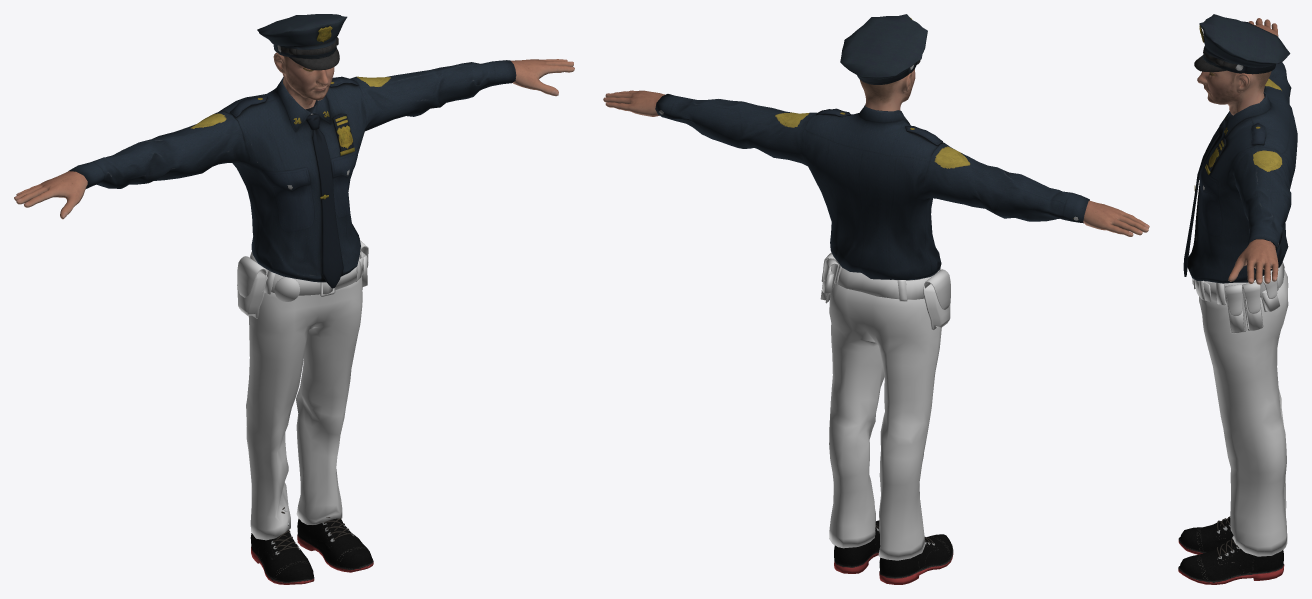
File: NPC10.obj
The picture shows the model from 3 angles, left to right: view 1: azimuth 30°, elevation 25°; view 2: azimuth 150°, elevation 25°; view 3: azimuth 270°, elevation 25°; orthographic projection. The views are drawn at different scales.
Visible parts, largest first — view 1: Tops, Bottoms, Shoes, Body, Hats; view 2: Tops, Bottoms, Hats, Body, Shoes; view 3: Bottoms, Tops, Shoes, Hats, Body.
Part boxes in pixels (x1,y1,x2,y2): Tops: [69, 60, 516, 288]; Bottoms: [237, 238, 368, 540]; Shoes: [250, 507, 373, 584]; Body: [14, 52, 574, 219]; Hats: [257, 14, 347, 70]; Tops: [655, 94, 1089, 280]; Bottoms: [820, 252, 950, 560]; Hats: [840, 14, 927, 84]; Body: [603, 69, 1149, 236]; Shoes: [834, 520, 953, 584]; Bottoms: [1192, 262, 1288, 556]; Tops: [1183, 62, 1297, 283]; Shoes: [1178, 516, 1284, 584]; Hats: [1194, 14, 1290, 74]; Body: [1197, 18, 1278, 284].
Bounding box in the file's own units: 194 × 183 × 36.83.
